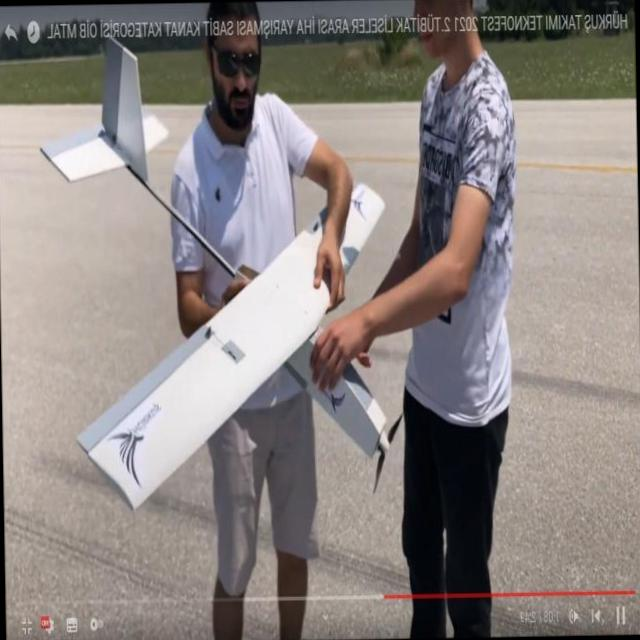UAV: (150, 171, 380, 504)
